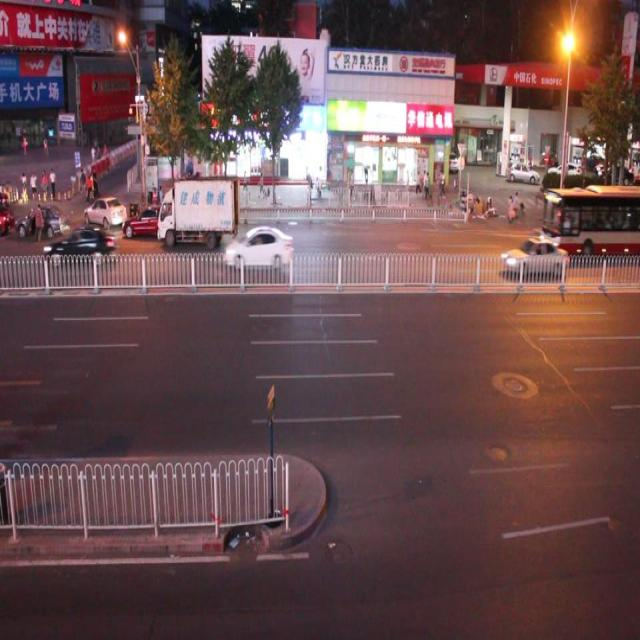bus: (153, 184, 240, 259)
car: (43, 223, 119, 270), (225, 224, 292, 273), (500, 237, 565, 279), (120, 210, 182, 251), (14, 201, 71, 239), (84, 192, 127, 230)
van: (539, 187, 640, 261)
